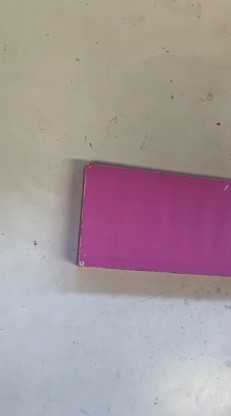pink: (57, 169, 223, 276)
